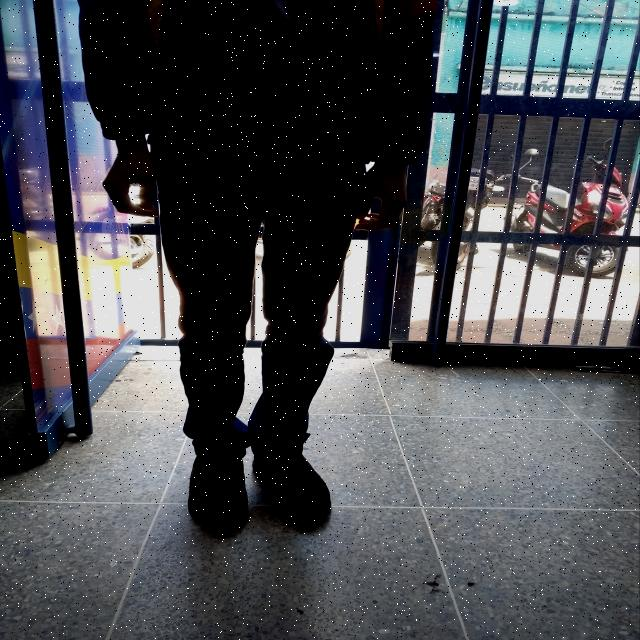chaqueta_unefa: (78, 0, 440, 166)
